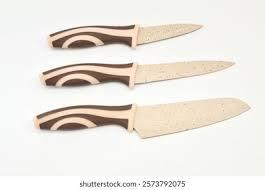Knife: (32, 96, 251, 139), (39, 59, 235, 88), (47, 22, 204, 49)
